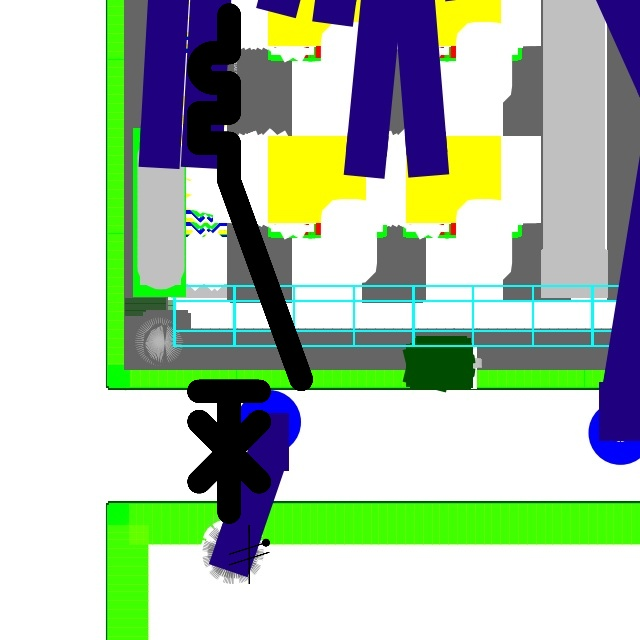interruptor_termomagnetico: (186, 2, 314, 525)
